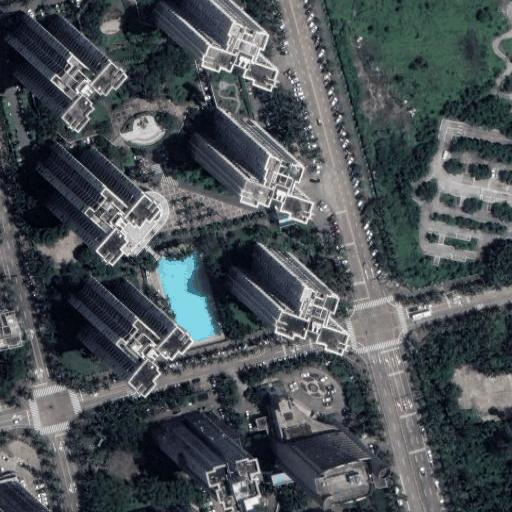building: (37, 144, 116, 224), (4, 14, 82, 91), (73, 276, 150, 354), (227, 244, 304, 313), (192, 111, 269, 178), (157, 411, 213, 468), (268, 395, 333, 444), (281, 430, 343, 478), (0, 478, 33, 512), (120, 498, 184, 512), (270, 469, 291, 483)
